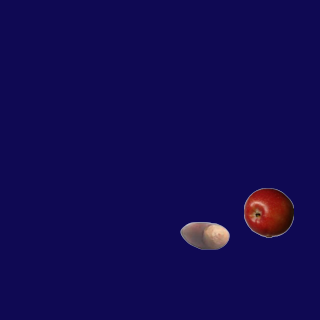Apple Braeburn: (243, 187, 293, 237)
Hazelnut: (179, 210, 229, 260)
